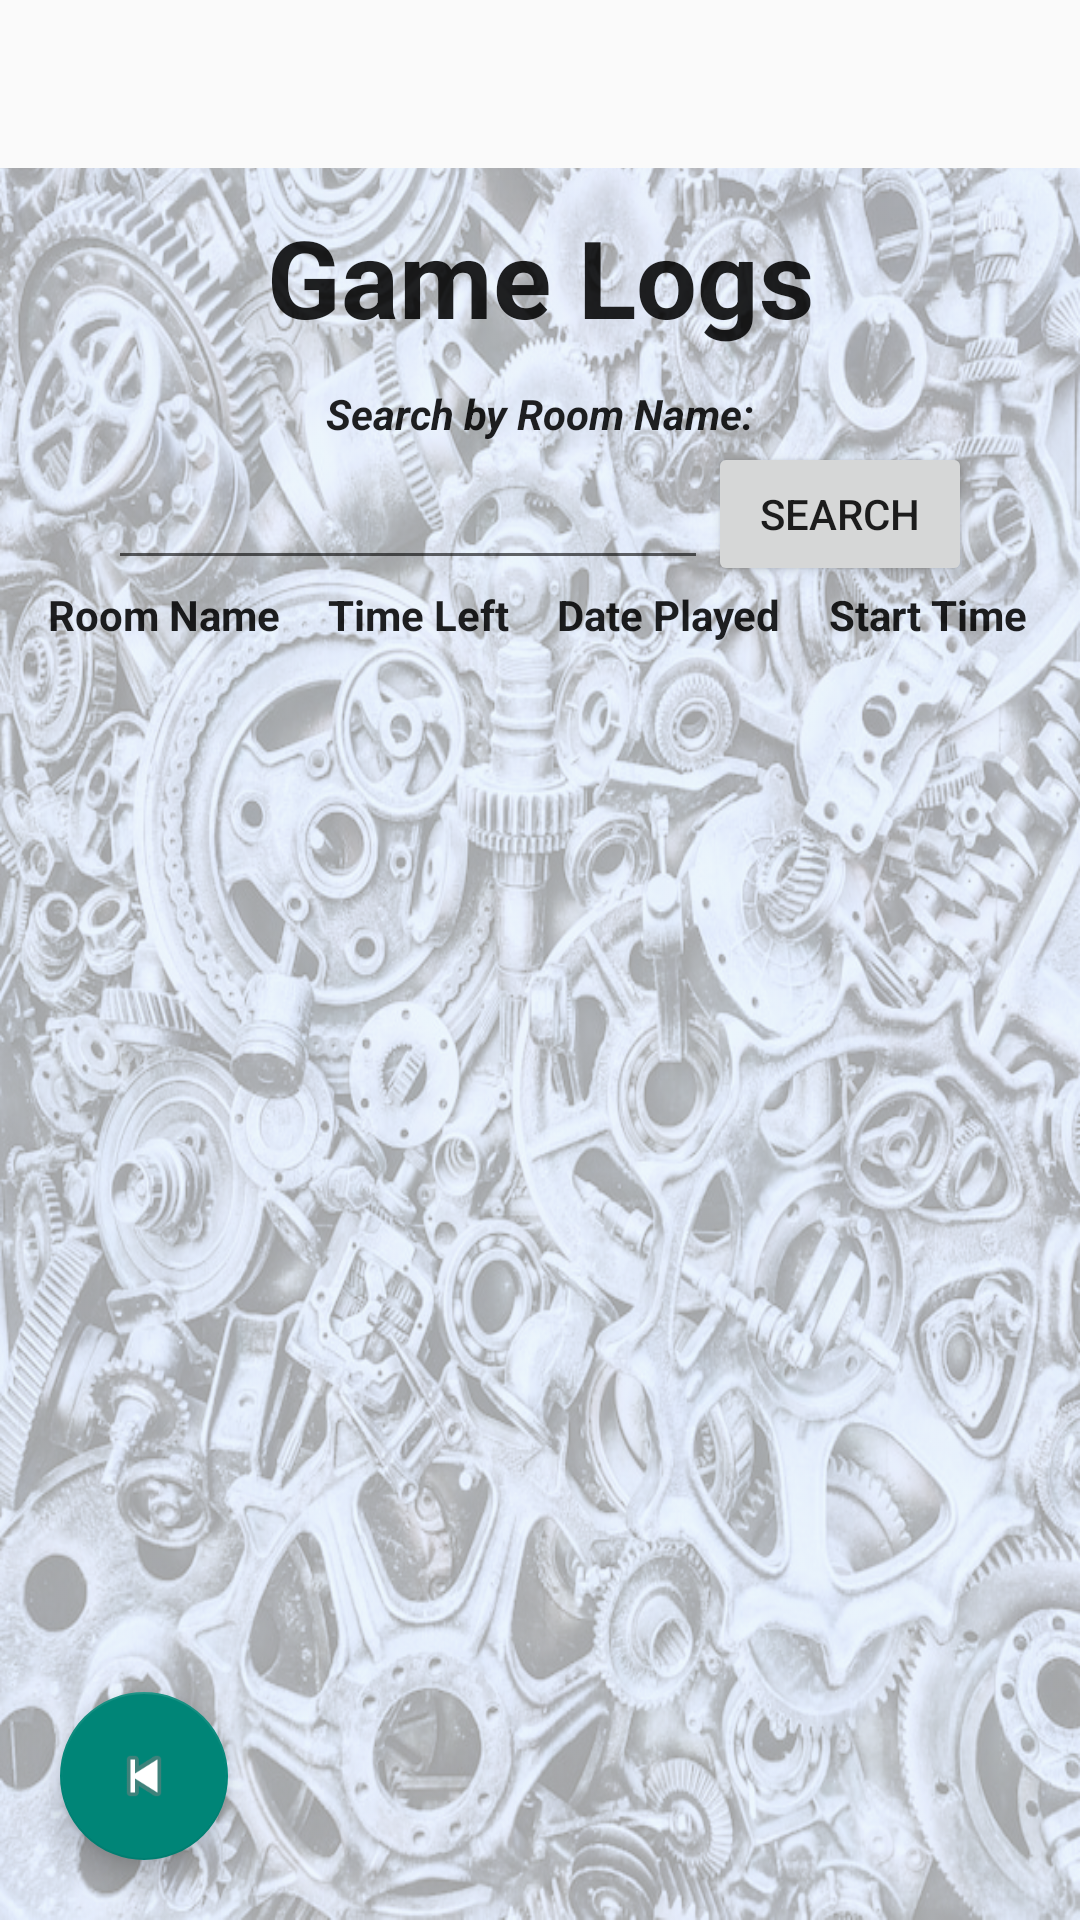

Named icons in this screenshot (1080×1920) and their centers, (x=x, y=y):
Back: (x=144, y=1776)
